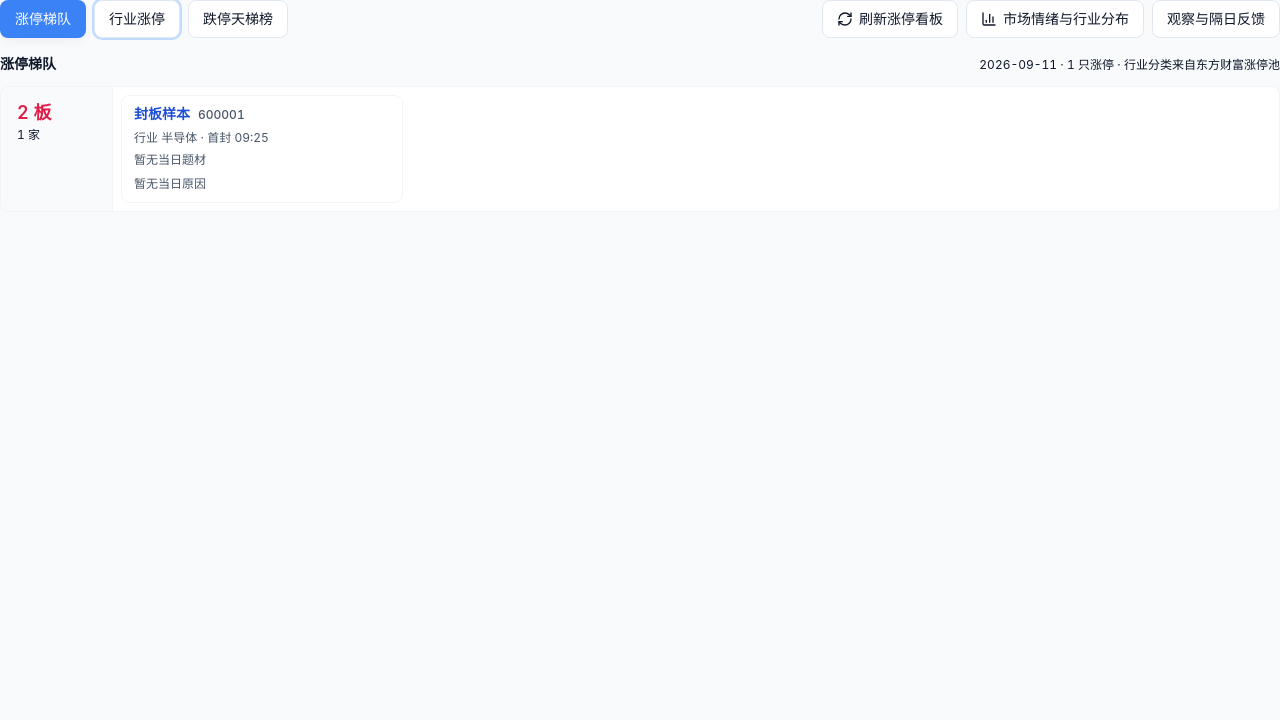
Test case: LimitUpBoardPanel independent breadth loading › shows a first-board empty state without losing the full-market snapshot
Step 1. Click the button "行业涨停" → (137, 19), box [94, 0, 180, 38]
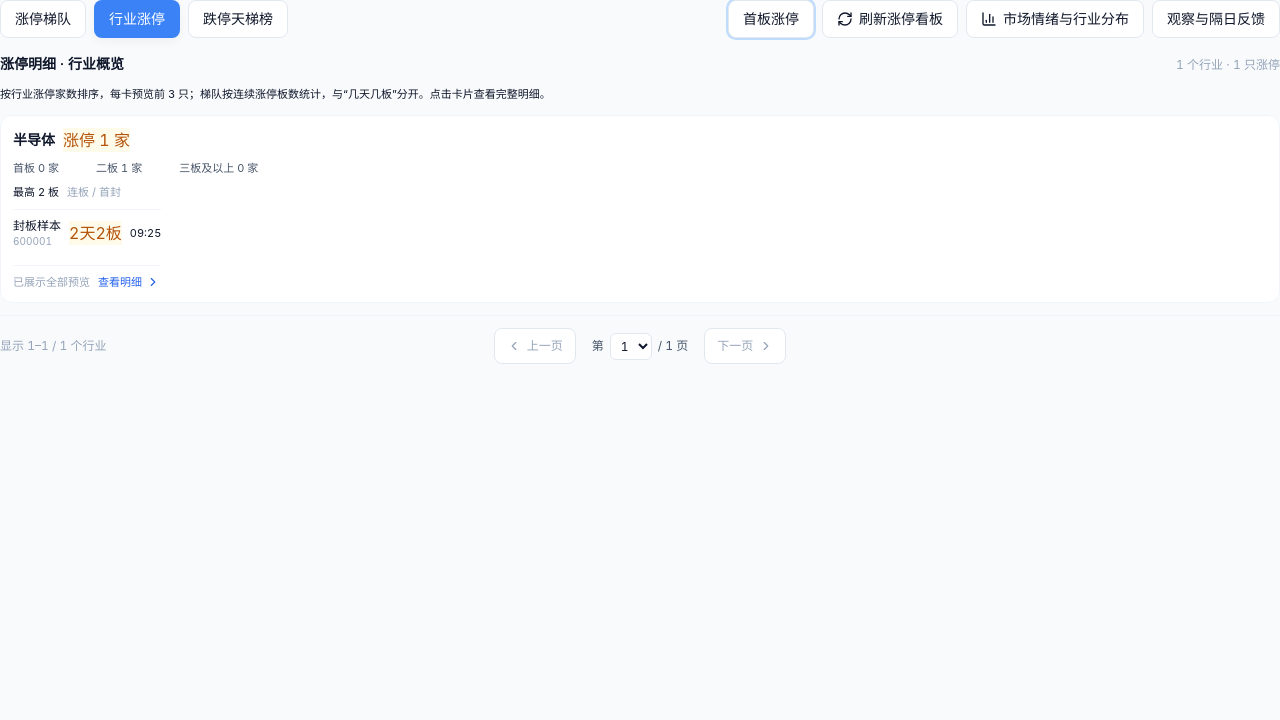
expect the button "首板涨停" is shown: met
expect the button "首板涨停" is enabled: met
Step 2. Click the button "首板涨停" → (771, 19), box [728, 0, 814, 38]
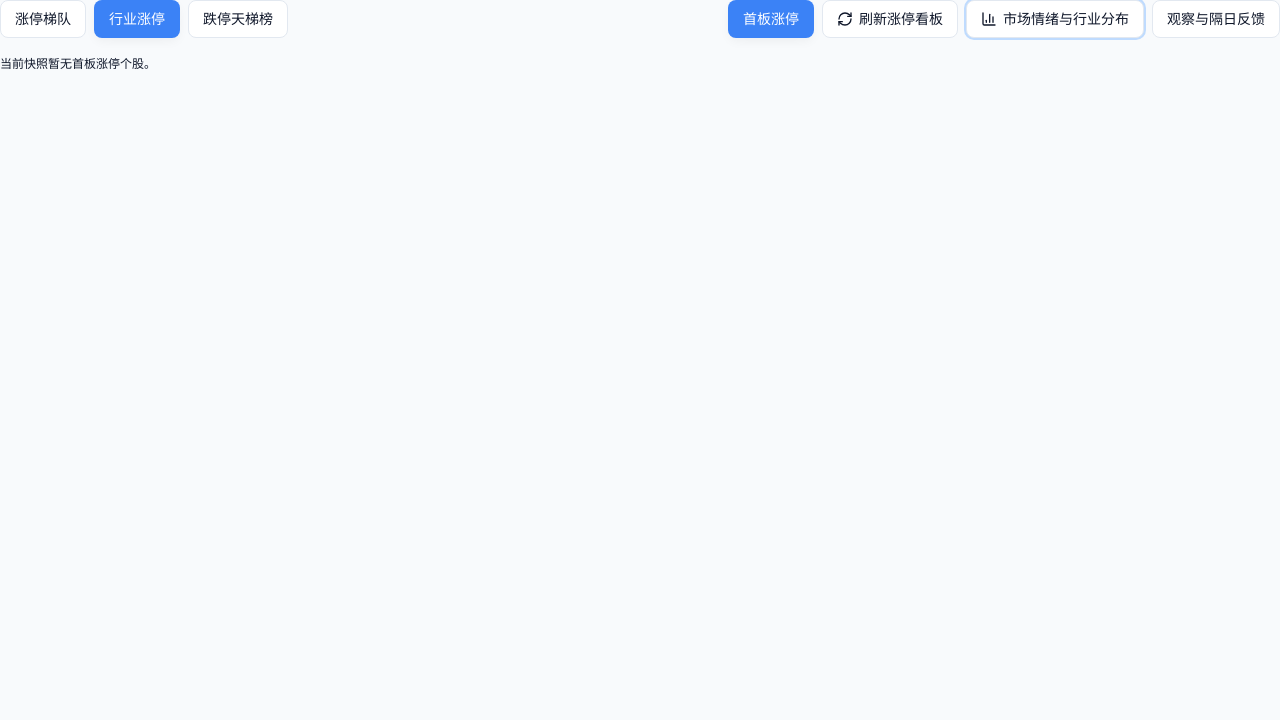
expect the text "当前快照暂无首板涨停个股。" is shown: met, box [0, 56, 156, 71]
Step 3. Click the button "市场情绪与行业分布" → (1055, 19), box [966, 0, 1144, 38]
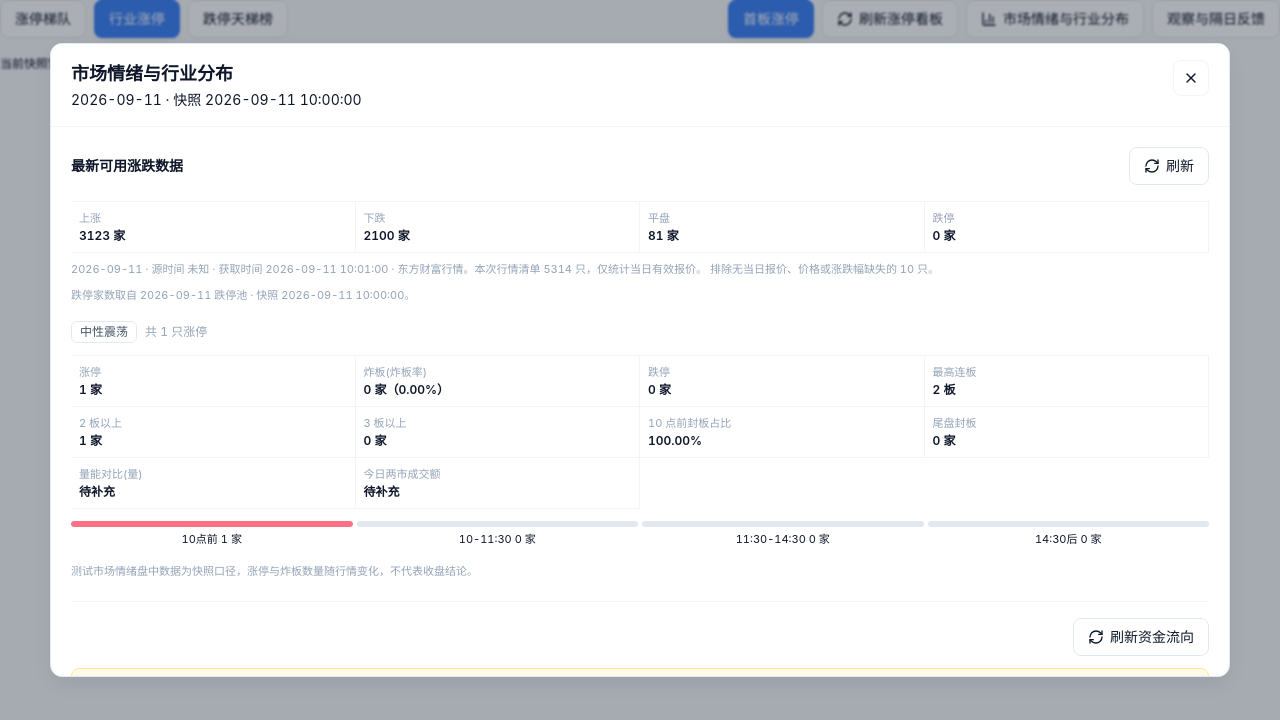
expect the dialog shows "共 1 只涨停": met
Step 4. Click the button named "关闭详情" → (1191, 78), box [1173, 60, 1209, 96]
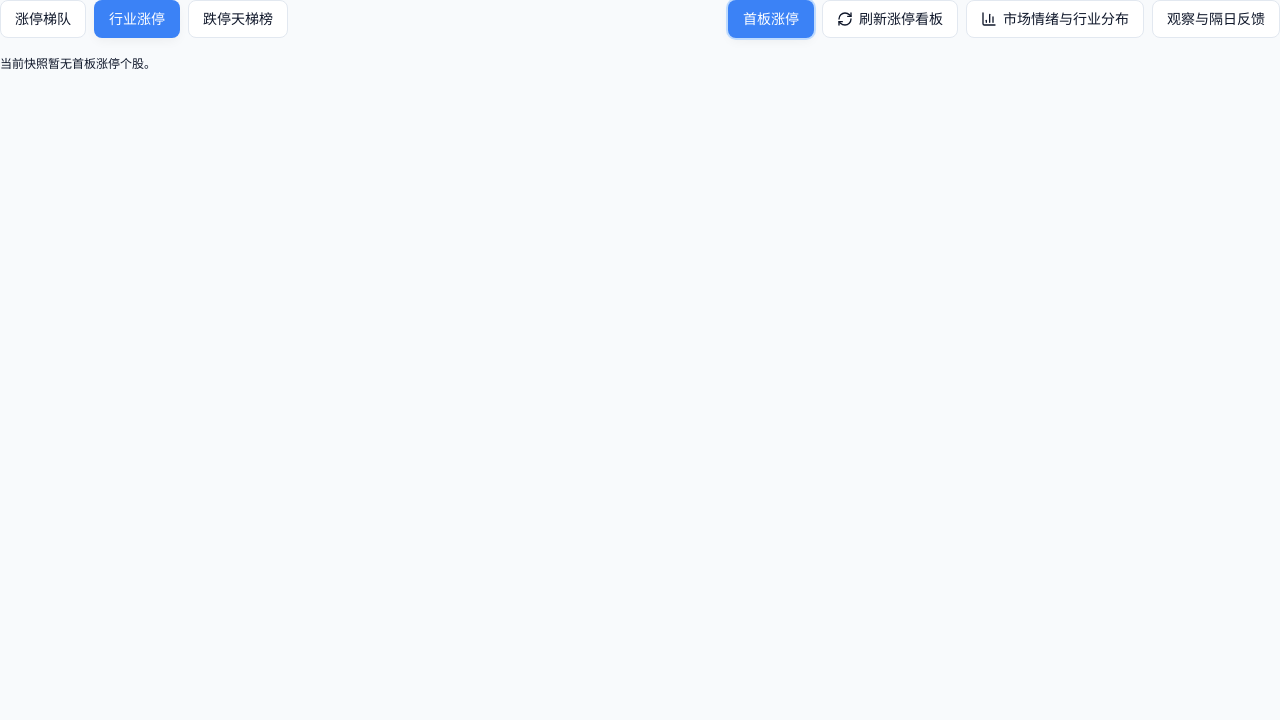
Step 5. Click the button "首板涨停" → (771, 19), box [728, 0, 814, 38]
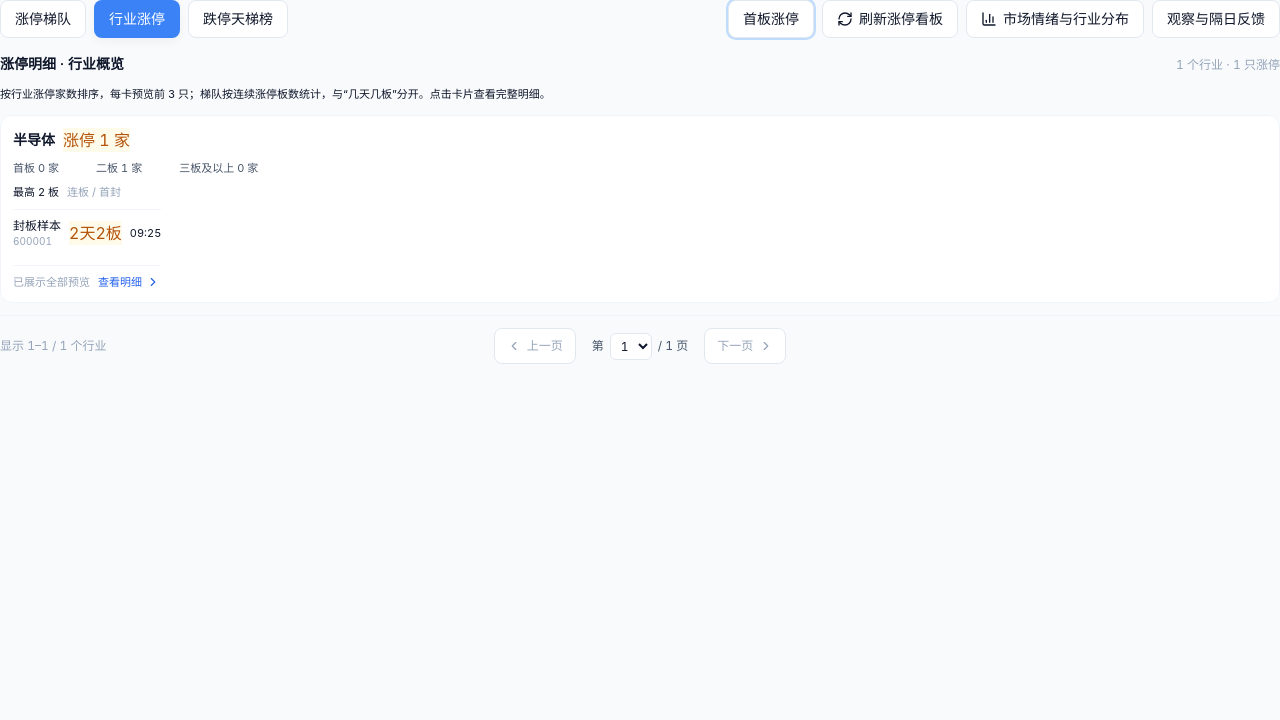
expect the text "封板样本" is shown: met, box [13, 218, 61, 234]
